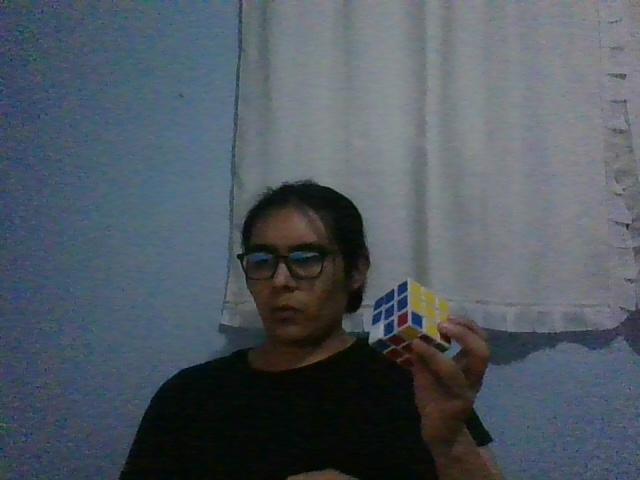rubik: (368, 277, 452, 369)
